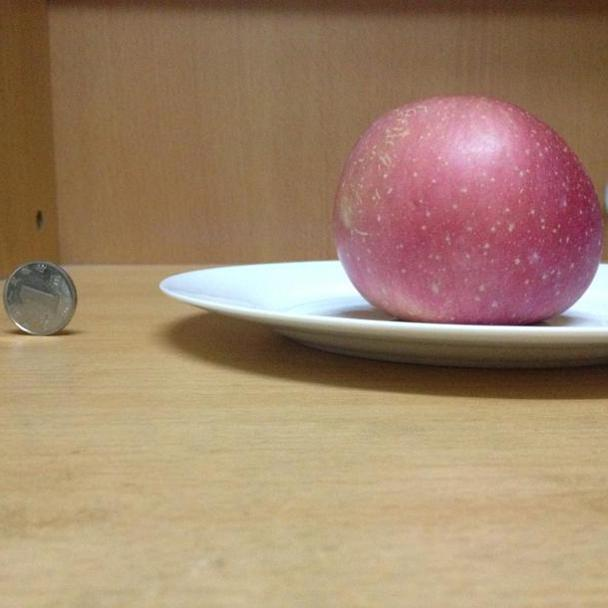apple: (330, 94, 600, 324)
